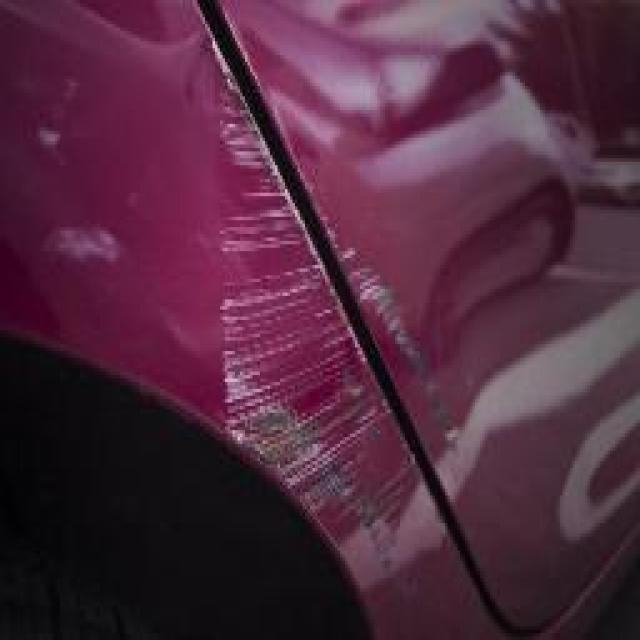Door: (246, 46, 500, 476)
Fender: (171, 31, 454, 640)
